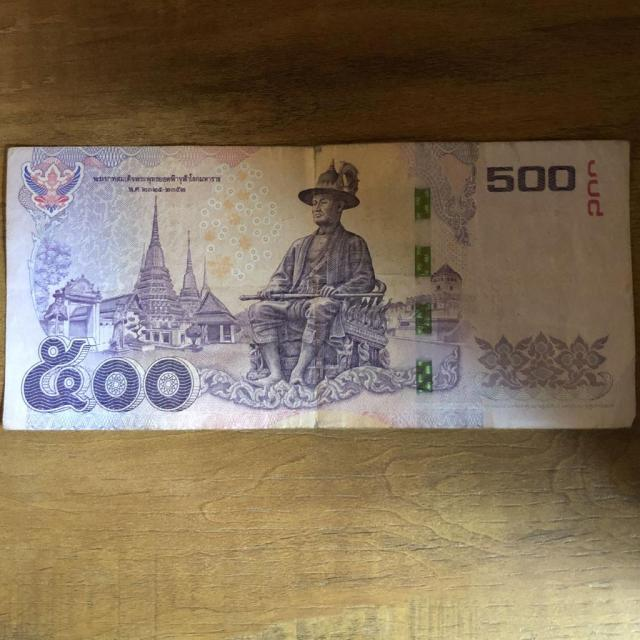THAI500: (4, 141, 633, 429)
